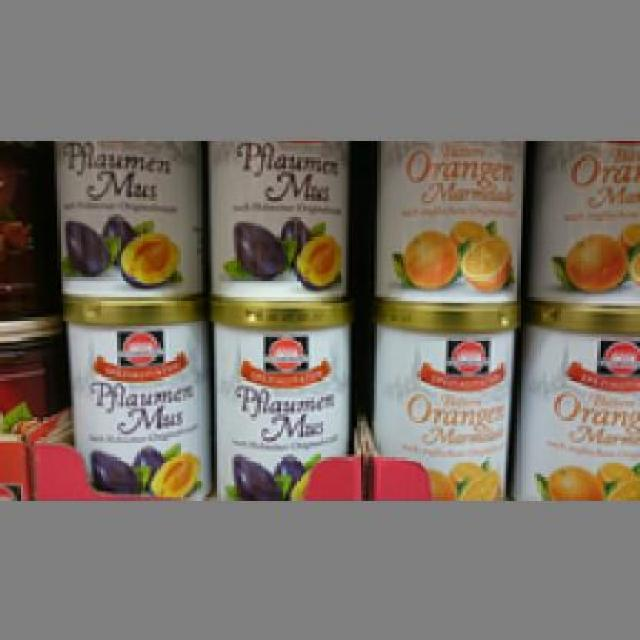Jam: (368, 297, 518, 500), (63, 294, 208, 494), (212, 297, 348, 497), (508, 297, 638, 497), (372, 140, 528, 306), (50, 140, 206, 297), (206, 140, 357, 300), (528, 140, 638, 303)
